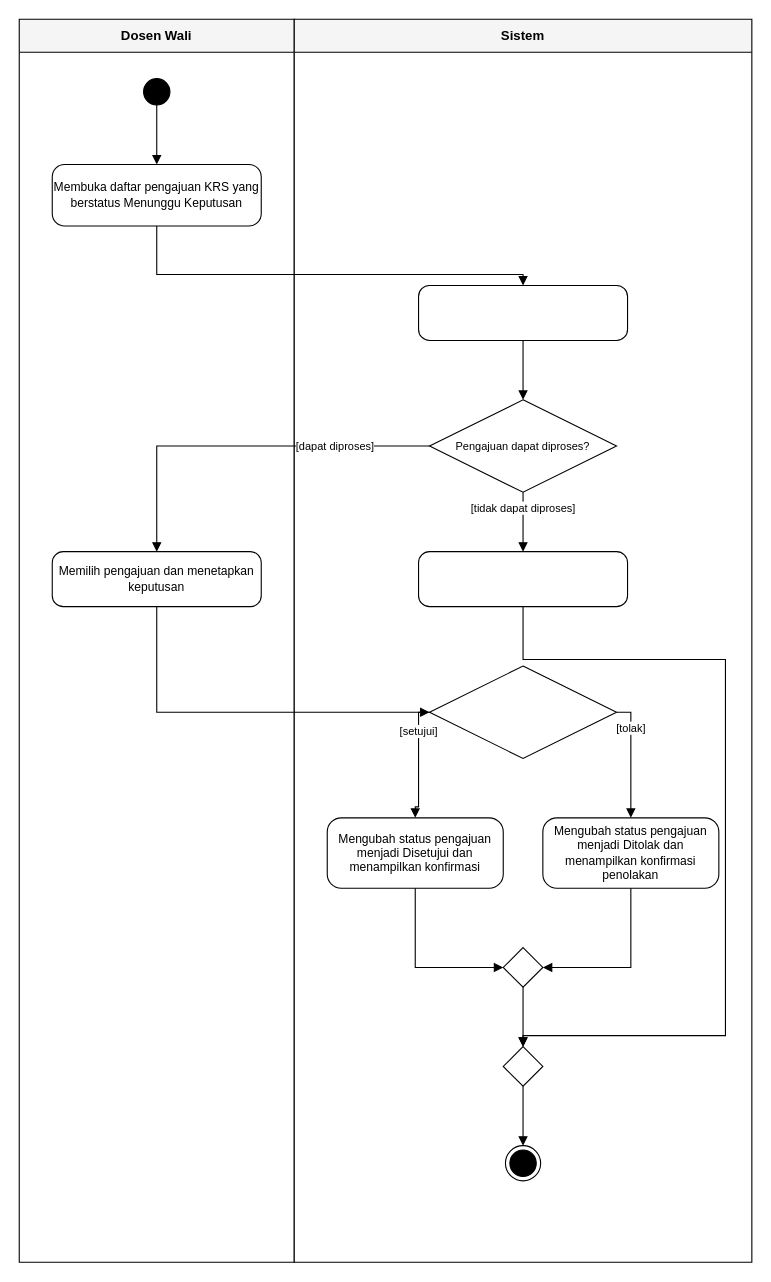
Some shapes in this 771 by 1282 pixel diagram are drawn without their labels. The centre of each missing label's shape, as x and y in pixels:
"Keputusan?" belongs at (x=522, y=711).
"Menampilkan daftar pengajuan tersebut" belongs at (x=522, y=312).
"Menampilkan pesan pengajuan tidak dapat diproses" belongs at (x=522, y=579).
